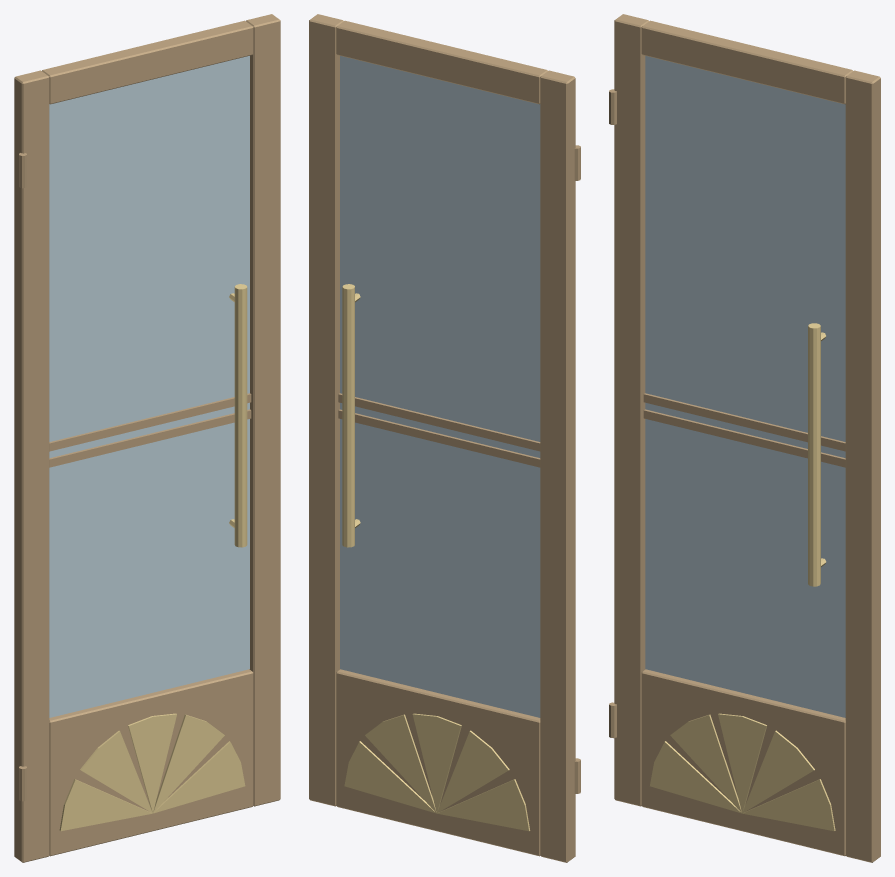
File: door_portal.glb
3 views of the same model, side by side, from view 1: azimuth 30°, elevation 25°; view 2: azimuth 150°, elevation 25°; view 3: azimuth 330°, elevation 25° (orthographic).
Visible parts, largest first — view 1: door_portal_glass, door_portal_bronze, door_portal_gold; view 2: door_portal_glass, door_portal_bronze, door_portal_gold; view 3: door_portal_glass, door_portal_bronze, door_portal_gold.
Part boxes in pixels (x1,y1,x2,y2): door_portal_glass: (49,56,249,717); door_portal_bronze: (14,14,280,862); door_portal_gold: (59,284,247,831); door_portal_glass: (340,56,540,717); door_portal_bronze: (309,14,580,862); door_portal_gold: (342,284,530,831); door_portal_glass: (645,56,845,717); door_portal_bronze: (609,14,880,862); door_portal_gold: (650,323,835,831).
Bounding box in the file's own units: 0.852 × 2.42 × 0.1842.
